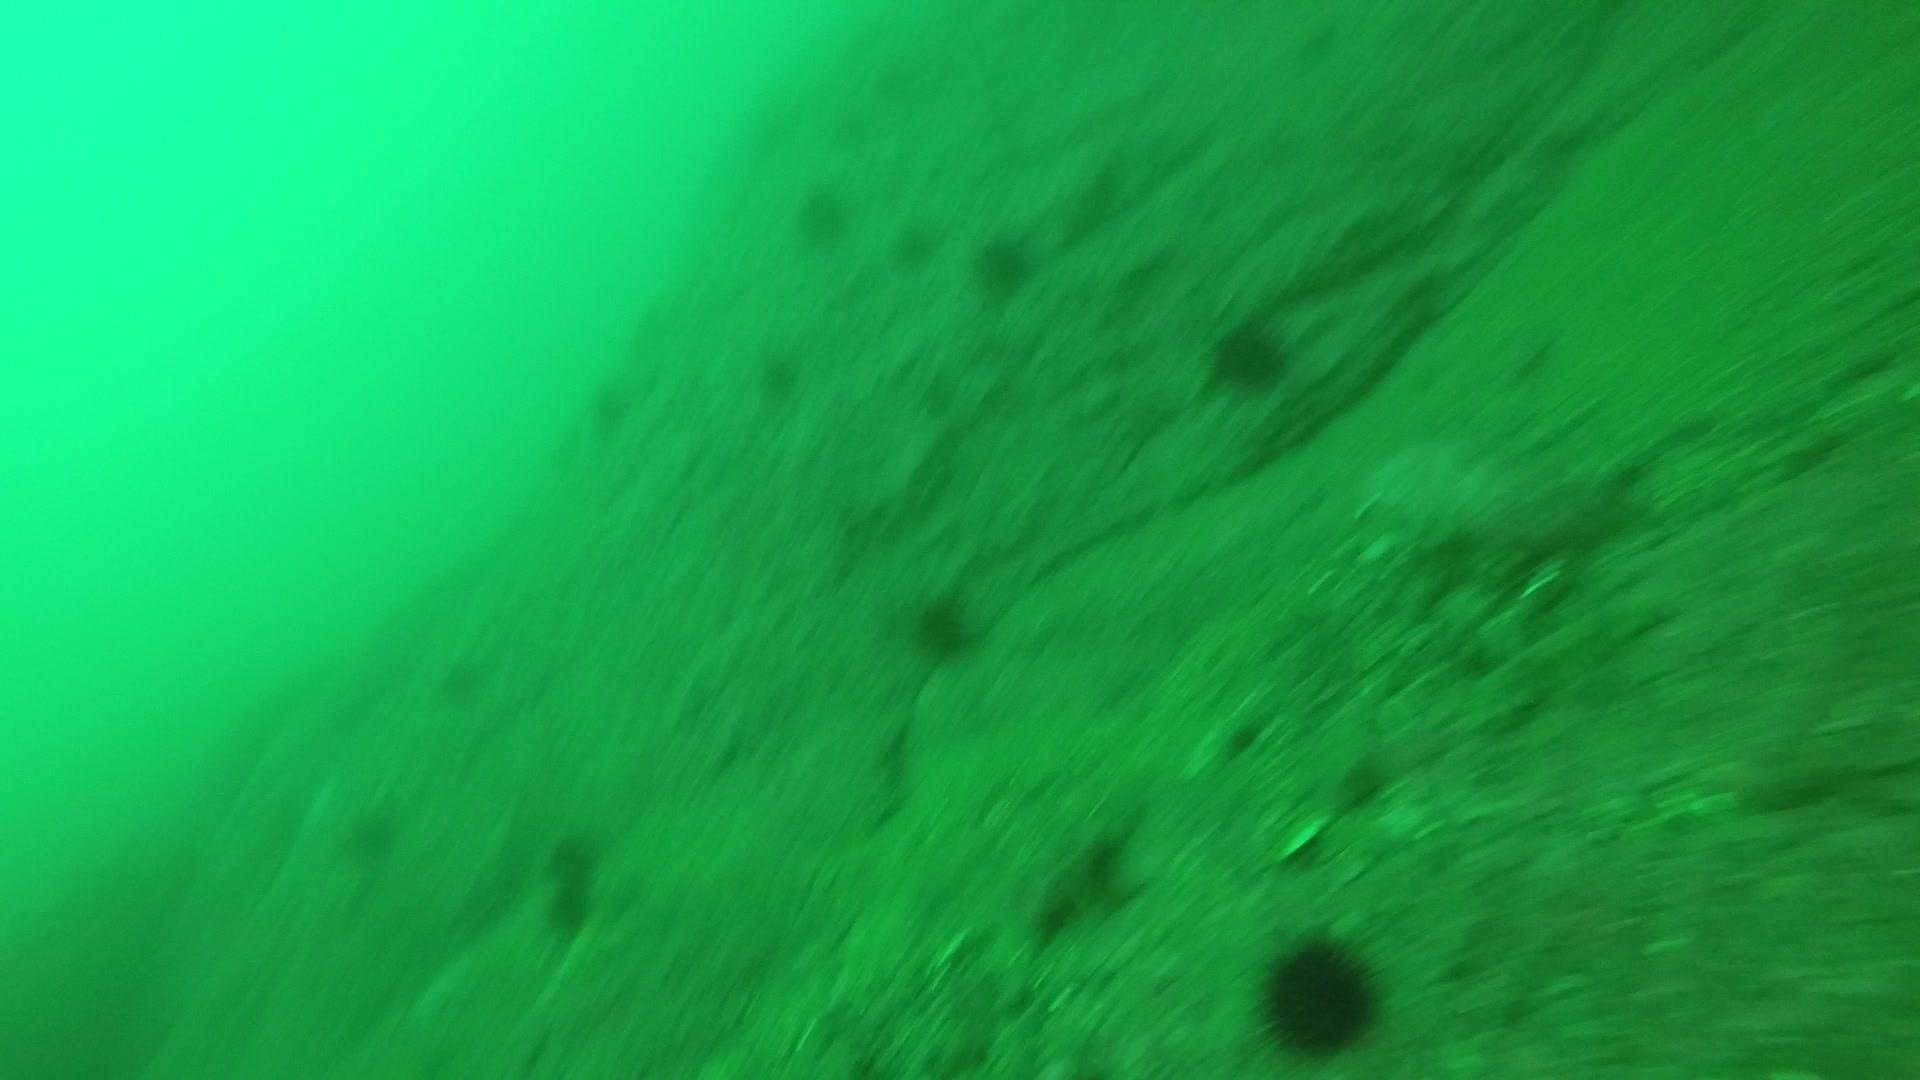echinus: (1250, 927, 1389, 1060), (1204, 314, 1295, 396), (906, 588, 984, 663), (968, 227, 1040, 298), (789, 179, 856, 248), (425, 642, 493, 709), (338, 800, 406, 866), (535, 873, 597, 934), (582, 372, 638, 436), (538, 829, 599, 889), (752, 343, 808, 404), (889, 216, 942, 272)
